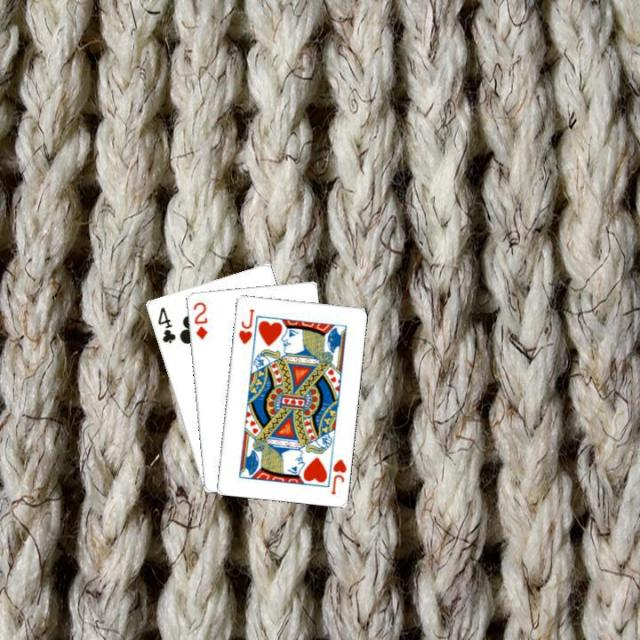2D: (189, 298, 209, 340)
4C: (153, 303, 177, 345)
JH: (235, 305, 256, 346), (327, 455, 348, 496)
